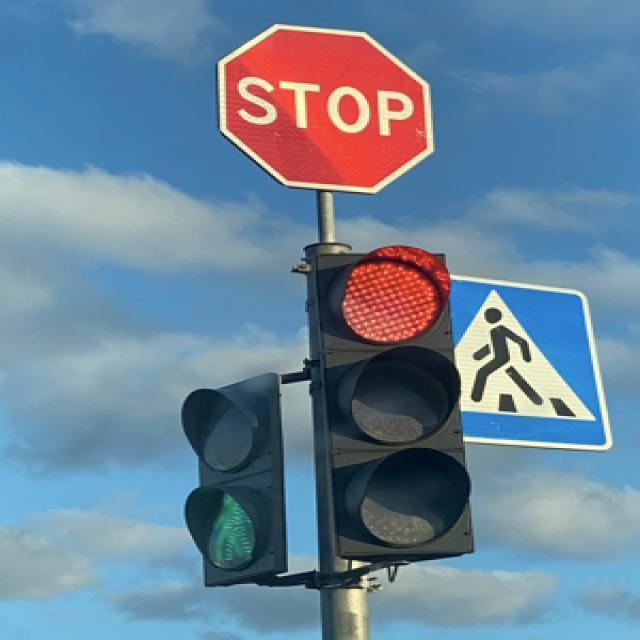crosswalk_sign: (446, 273, 612, 450)
stop: (213, 20, 438, 196)
